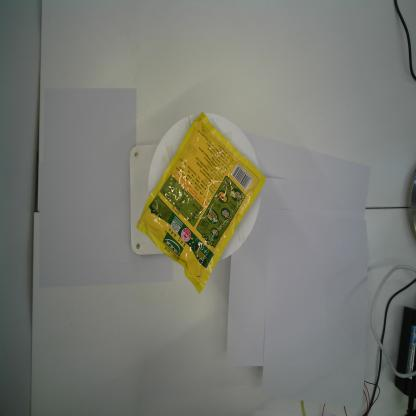Seasoner: (136, 110, 266, 294)
